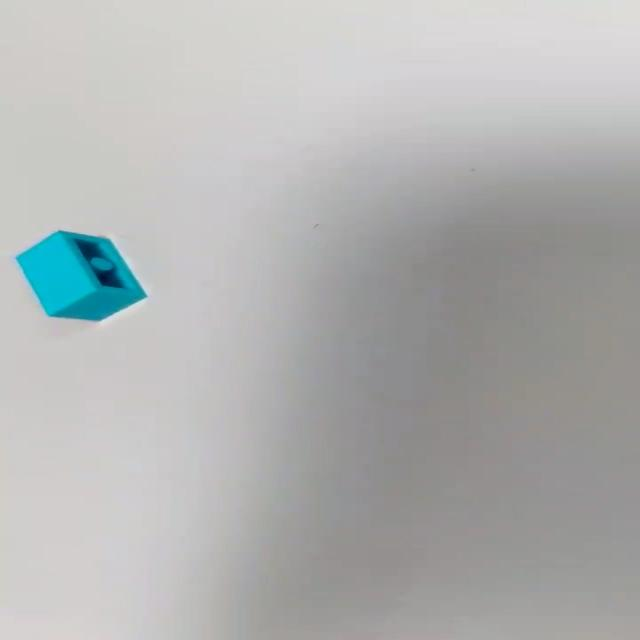C2x1x1: (14, 229, 148, 321)
